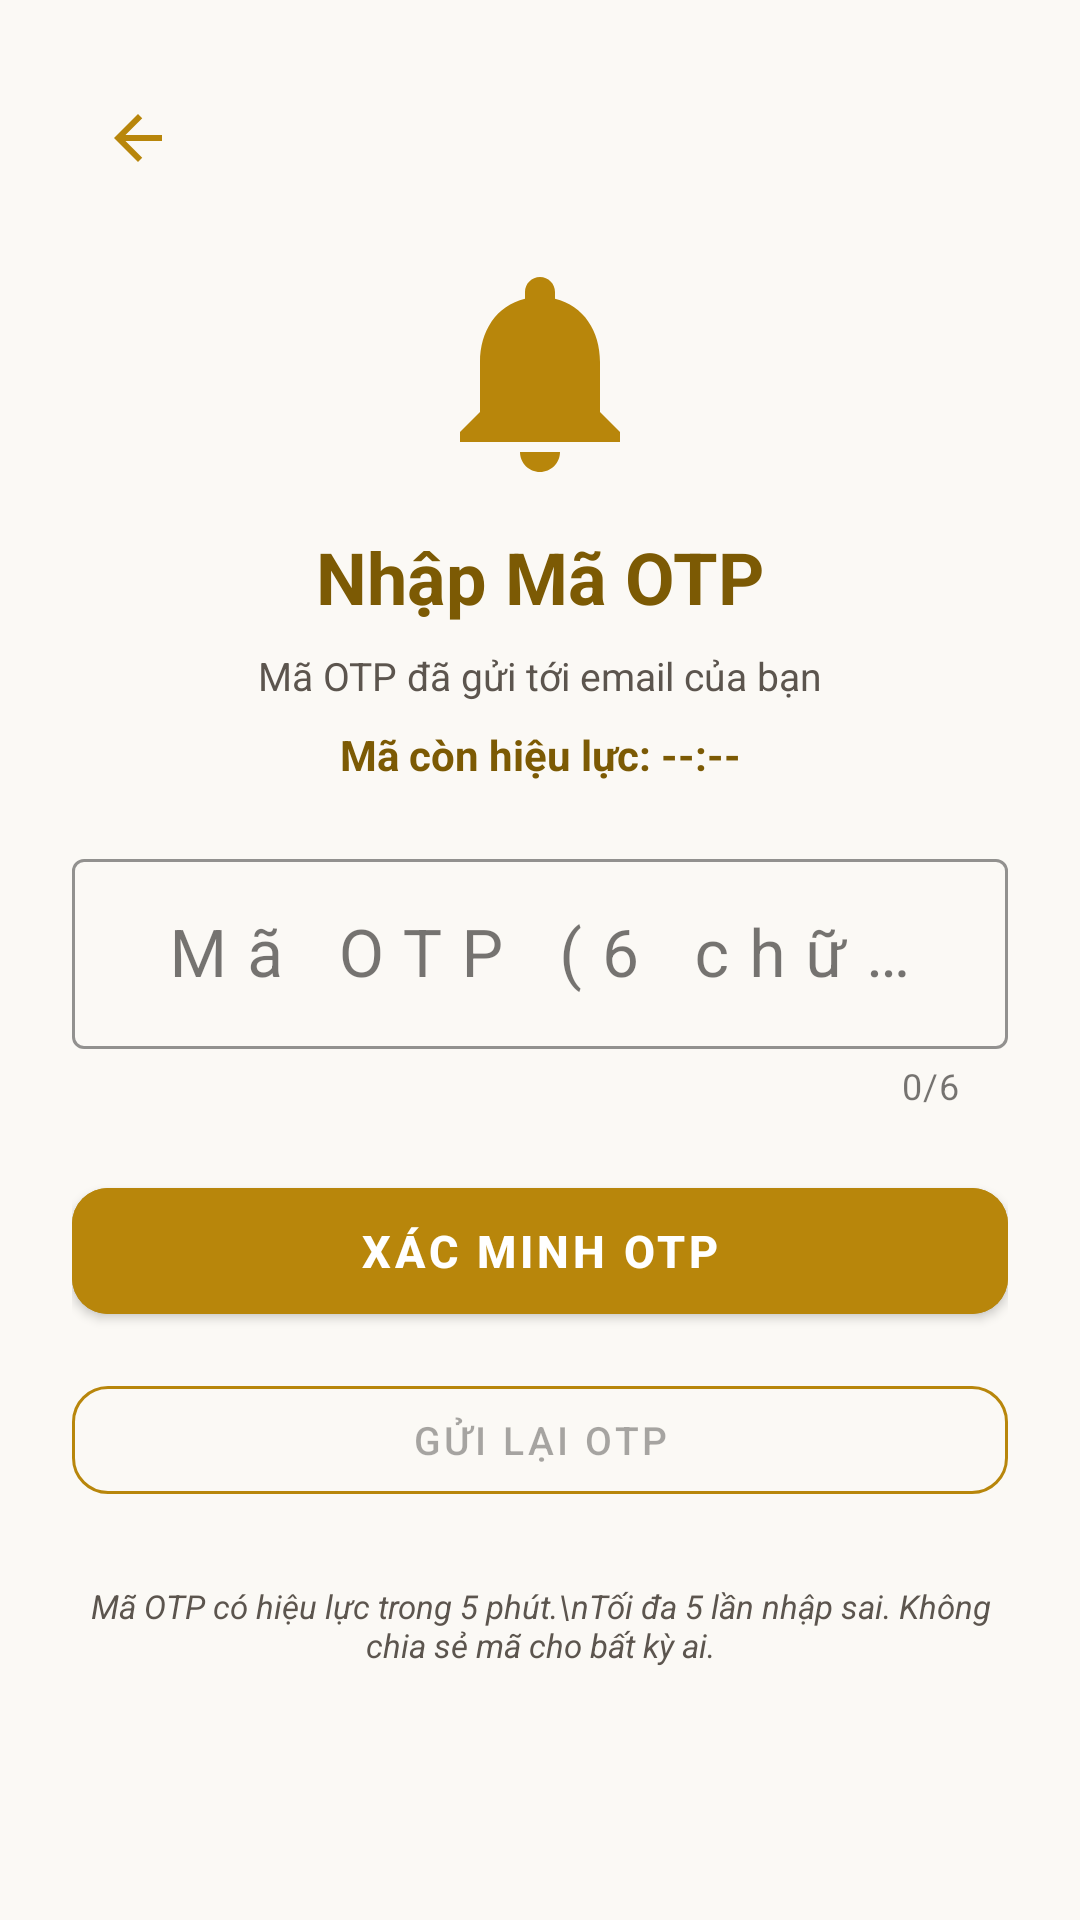

Point at icon controls on the screen. Image size 1080px x 1920px, points as (x=x, y=y).
Quay lại: (x=138, y=138)
